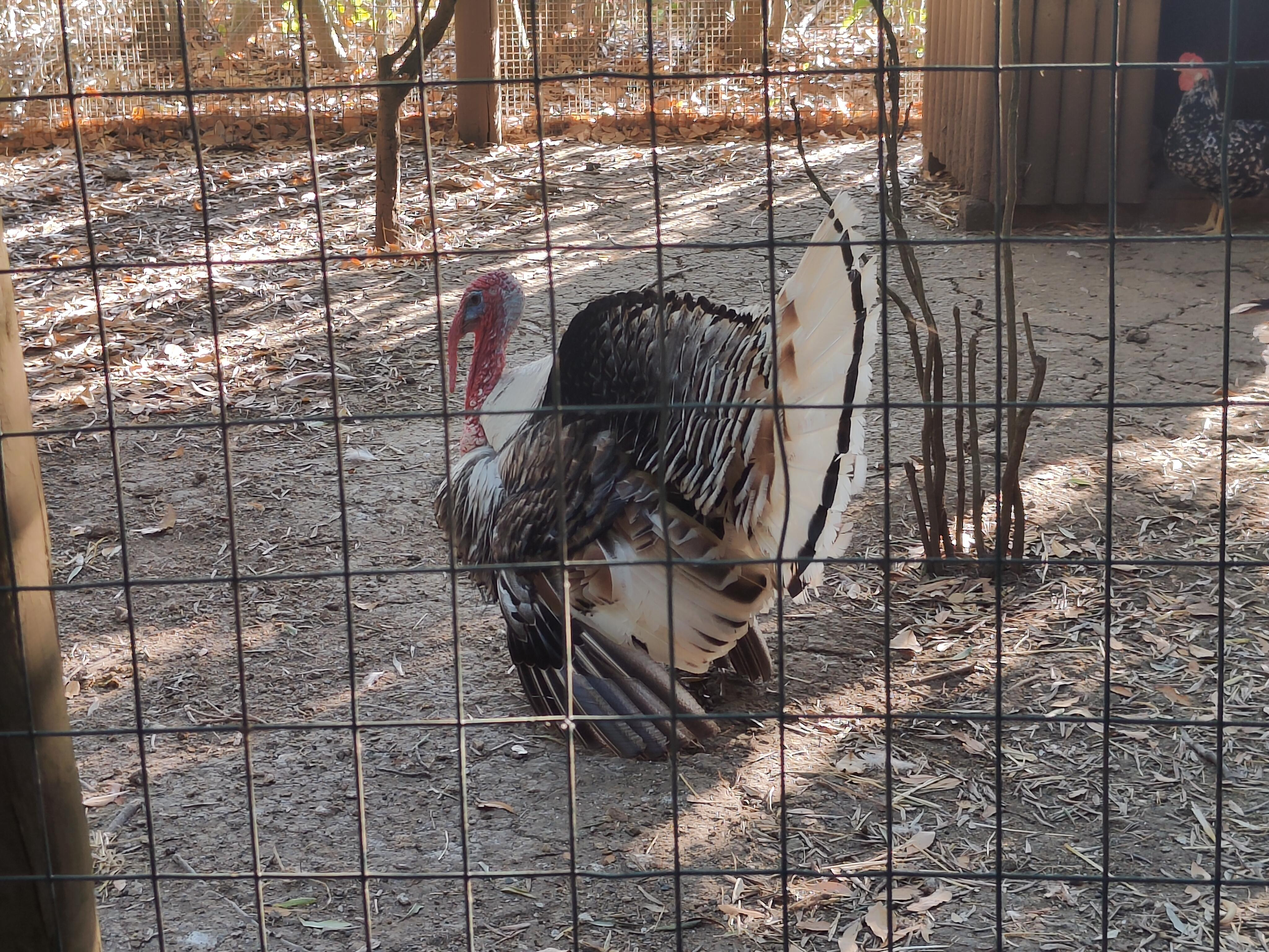apple: (432, 189, 883, 761)
